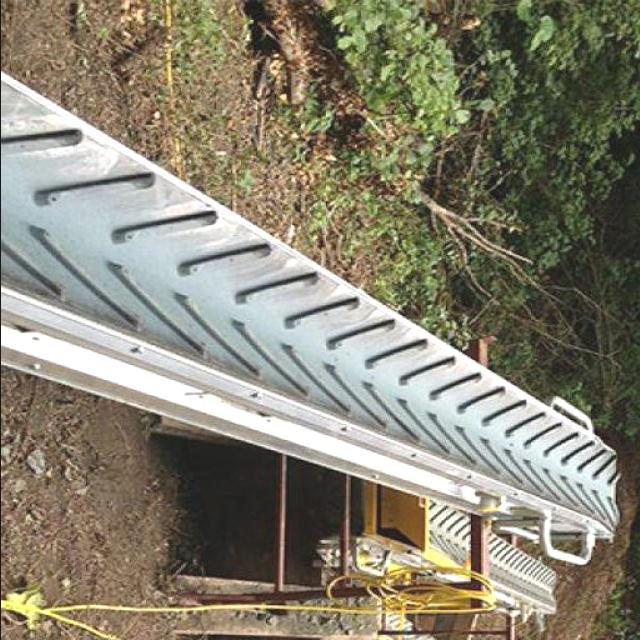conveyor: (0, 75, 618, 531)
